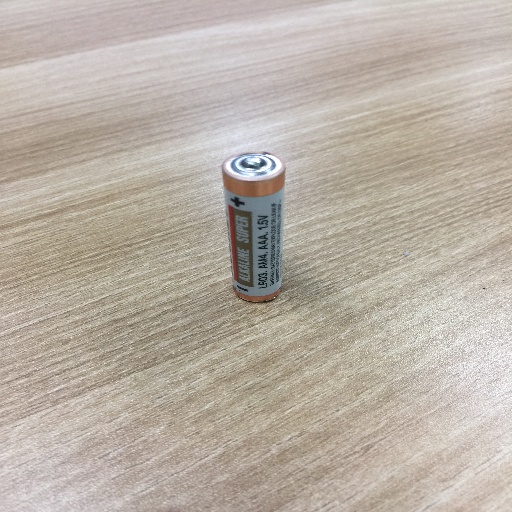Battery_0: (218, 143, 300, 321)
